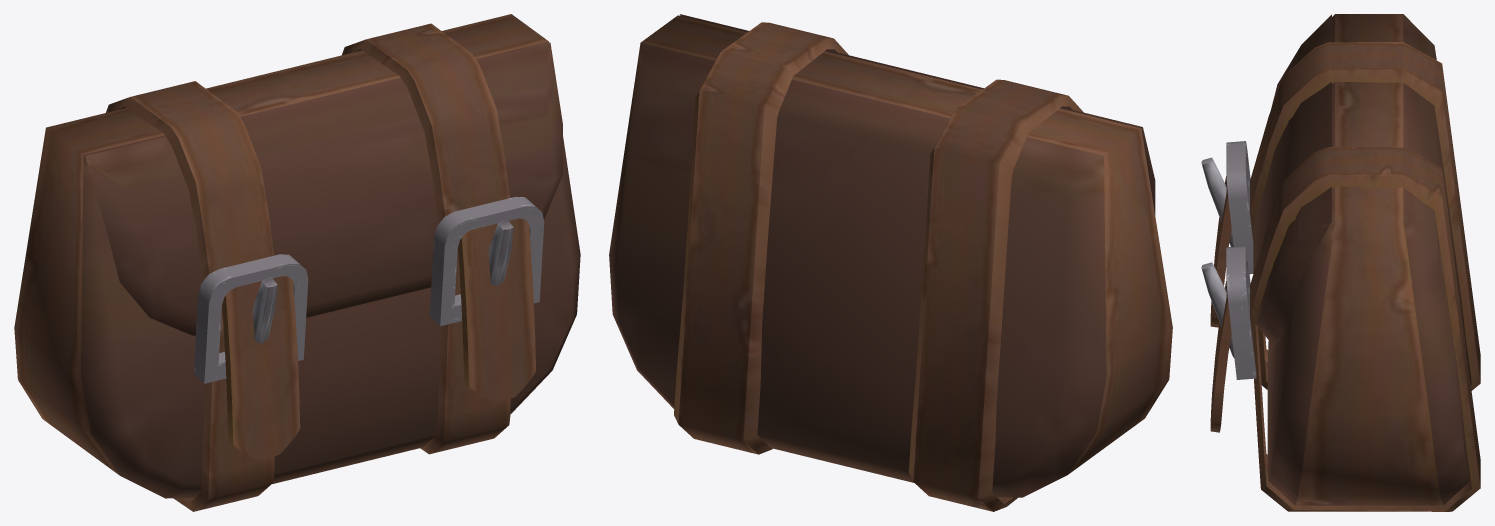
File: quaternius-fantasy-props-pouch-large.glb
The picture shows the model from 3 angles, left to right: view 1: azimuth 30°, elevation 25°; view 2: azimuth 150°, elevation 25°; view 3: azimuth 270°, elevation 25°; orthographic projection. The views are drawn at different scales.
Parts seen in each view (by area): view 1: Pouch_Large; view 2: Pouch_Large; view 3: Pouch_Large.
Part boxes in pixels (<box>): Pouch_Large: <box>14,14,580,511</box>; Pouch_Large: <box>609,14,1172,511</box>; Pouch_Large: <box>1201,14,1480,511</box>.
Bounding box in the file's own units: 0.3 × 0.2117 × 0.1594.
Materials: 2 (2 with a texture image).
